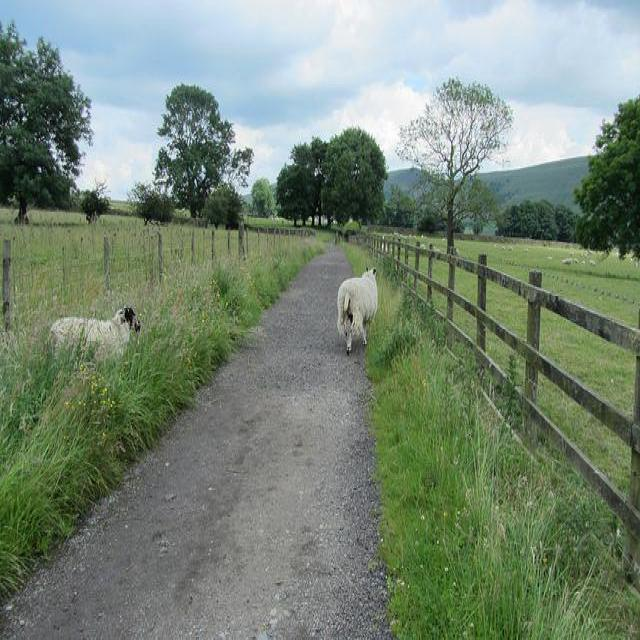Sheep: (336, 266, 380, 354)
